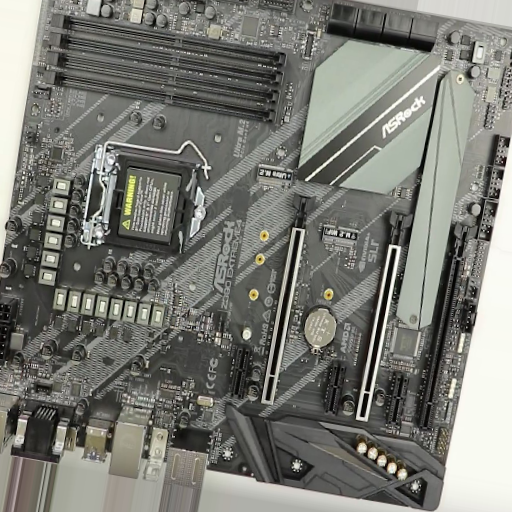CPU: (87, 144, 209, 255)
GPU: (354, 211, 413, 424), (421, 221, 480, 432), (260, 192, 316, 409)
MOTHERBOARD: (1, 1, 510, 510)
RAM: (38, 13, 290, 128)
SSD: (319, 222, 361, 255), (254, 161, 295, 191)
